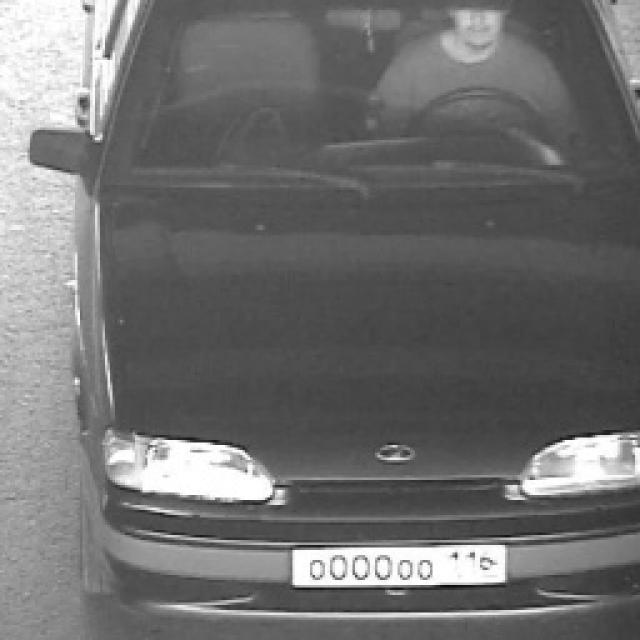windshield: (109, 0, 632, 204)
